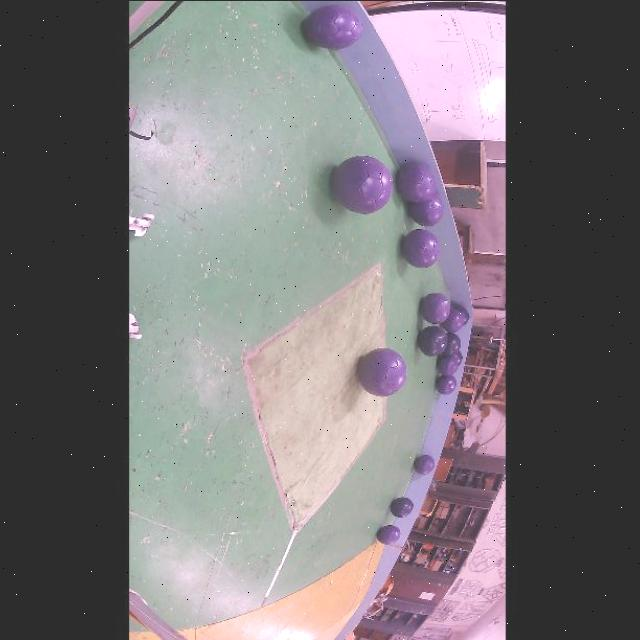B: (419, 325, 449, 355), (392, 496, 414, 517), (443, 331, 462, 355), (454, 304, 470, 325), (456, 351, 463, 364)
P: (333, 155, 394, 212), (304, 4, 363, 49), (359, 347, 407, 395), (398, 163, 437, 202), (403, 228, 441, 267), (409, 193, 445, 225), (422, 292, 452, 323), (441, 308, 465, 331), (379, 523, 402, 544), (436, 374, 458, 394), (415, 454, 436, 474), (438, 355, 460, 374)
